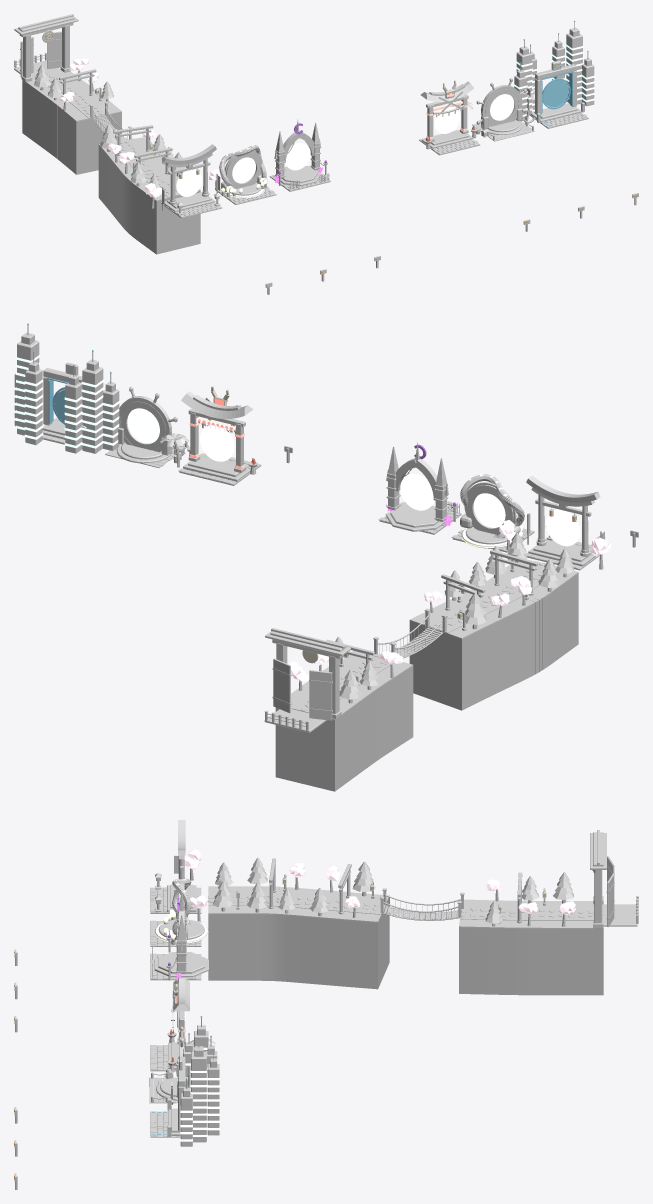
File: LOBBY_06_PORTALS.fbx
The picture shows the model from 3 angles, top to bottom: view 1: azimuth 30°, elevation 25°; view 2: azimuth 150°, elevation 25°; view 3: azimuth 270°, elevation 25°; orthographic projection. The views are drawn at different scales.
Visible parts, largest first — view 1: KONOHA_Pass_Path__Cliff_Rock_Dark, PORTAL_OnePunchMan_City__P_OPM_Concrete, KONOHA_Pass_Path__Grass, KONOHA_Pass_Path__Dirt, PORTAL_ShadowGarden_Gothic__P_Shadow_Stone, KONOHA_Great_Gate__Wood_Dark, PORTAL_OnePunchMan_City__Stone_Grout, PORTAL_DragonBall_Ring__P_DB_Gold, KONOHA_Pass_Decor__Leaf_Pine, PORTAL_DemonSlayer_Shrine__P_DS_Black, PORTAL_OnePunchMan_City__P_OPM_Glass, PORTAL_OnePiece_Helm__Wood_Plank (+22 smaller); view 2: KONOHA_Pass_Path__Cliff_Rock_Dark, PORTAL_OnePunchMan_City__P_OPM_Concrete, KONOHA_Pass_Path__Grass, PORTAL_ShadowGarden_Gothic__P_Shadow_Stone, PORTAL_OnePunchMan_City__P_OPM_Glass, KONOHA_Pass_Decor__Leaf_Pine, KONOHA_Great_Gate__Wood_Plank, KONOHA_Pass_Path__Dirt, KONOHA_Great_Gate__Wood_Dark, PORTAL_DragonBall_Ring__P_DB_Gold, PORTAL_DemonSlayer_Shrine__P_DS_Black, PORTAL_OnePunchMan_City__Stone_Grout (+23 smaller); view 3: KONOHA_Pass_Path__Cliff_Rock_Dark, KONOHA_Pass_Path__Grass, PORTAL_OnePunchMan_City__P_OPM_Concrete, KONOHA_Pass_Path__Dirt, KONOHA_Pass_Decor__Leaf_Pine, PORTAL_OnePunchMan_City__Stone_Grout, PORTAL_ShadowGarden_Gothic__P_Shadow_Stone, PORTAL_OnePunchMan_City__P_OPM_Glass, KONOHA_Pass_Decor__Leaf_Sakura, KONOHA_Pass_Decor__Leaf_Pine_Light, KONOHA_Great_Gate__Wood_Dark, PORTAL_ShadowGarden_Gothic__Stone_Grout (+8 smaller).
Boxes of the visible parts, x1,y1,x2,y2 form: KONOHA_Pass_Path__Cliff_Rock_Dark: [22, 73, 200, 254]; PORTAL_OnePunchMan_City__P_OPM_Concrete: [514, 27, 594, 122]; KONOHA_Pass_Path__Grass: [26, 70, 200, 201]; KONOHA_Pass_Path__Dirt: [34, 71, 180, 198]; PORTAL_ShadowGarden_Gothic__P_Shadow_Stone: [274, 121, 321, 182]; KONOHA_Great_Gate__Wood_Dark: [14, 14, 78, 82]; PORTAL_OnePunchMan_City__Stone_Grout: [514, 29, 593, 128]; PORTAL_DragonBall_Ring__P_DB_Gold: [219, 145, 266, 188]; KONOHA_Pass_Decor__Leaf_Pine: [34, 72, 193, 188]; PORTAL_DemonSlayer_Shrine__P_DS_Black: [421, 84, 472, 148]; PORTAL_OnePunchMan_City__P_OPM_Glass: [514, 44, 594, 116]; PORTAL_OnePiece_Helm__Wood_Plank: [472, 108, 534, 141]; KONOHA_Pass_Path__Cliff_Rock_Dark: [275, 564, 578, 791]; PORTAL_OnePunchMan_City__P_OPM_Concrete: [15, 332, 119, 453]; KONOHA_Pass_Path__Grass: [291, 560, 578, 720]; PORTAL_ShadowGarden_Gothic__P_Shadow_Stone: [386, 442, 448, 527]; PORTAL_OnePunchMan_City__P_OPM_Glass: [14, 354, 119, 448]; KONOHA_Pass_Decor__Leaf_Pine: [339, 542, 573, 699]; KONOHA_Great_Gate__Wood_Plank: [273, 658, 332, 720]; KONOHA_Pass_Path__Dirt: [291, 561, 557, 712]; KONOHA_Great_Gate__Wood_Dark: [265, 628, 350, 720]; PORTAL_DragonBall_Ring__P_DB_Gold: [460, 474, 524, 538]; PORTAL_DemonSlayer_Shrine__P_DS_Black: [183, 395, 250, 481]; PORTAL_OnePunchMan_City__Stone_Grout: [14, 334, 119, 453]; KONOHA_Pass_Path__Cliff_Rock_Dark: [207, 888, 603, 995]; KONOHA_Pass_Path__Grass: [208, 886, 603, 929]; PORTAL_OnePunchMan_City__P_OPM_Concrete: [168, 1025, 218, 1146]; KONOHA_Pass_Path__Dirt: [208, 893, 603, 920]; KONOHA_Pass_Decor__Leaf_Pine: [212, 870, 573, 923]; PORTAL_OnePunchMan_City__Stone_Grout: [150, 1025, 219, 1146]; PORTAL_ShadowGarden_Gothic__P_Shadow_Stone: [158, 894, 205, 973]; PORTAL_OnePunchMan_City__P_OPM_Glass: [180, 1041, 219, 1141]; KONOHA_Pass_Decor__Leaf_Sakura: [289, 863, 575, 914]; KONOHA_Pass_Decor__Leaf_Pine_Light: [215, 857, 569, 914]; KONOHA_Great_Gate__Wood_Dark: [590, 830, 614, 928]; PORTAL_ShadowGarden_Gothic__Stone_Grout: [150, 893, 208, 980].
Bounding box in the file's own units: 261 × 76.35 × 255.
